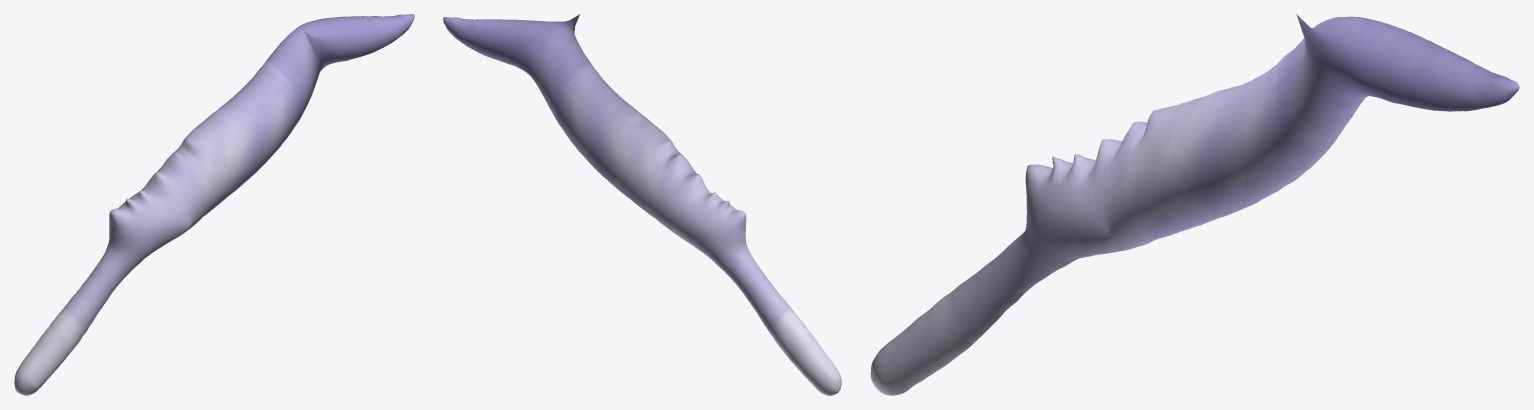
The model's file is Knife27.164bfde6.glb.
The picture shows the model from 3 angles, left to right: view 1: azimuth 30°, elevation 25°; view 2: azimuth 150°, elevation 25°; view 3: azimuth 330°, elevation 25°; orthographic projection. The views are drawn at different scales.
Size of the model in its own units: 7.52 by 5.57 by 1.18.
1 material, 1 textured.
